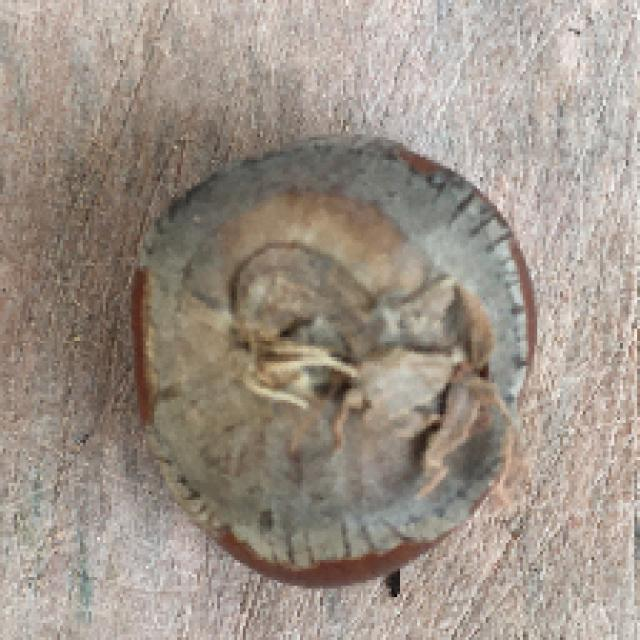damagedHazelnut: (108, 128, 542, 592)
